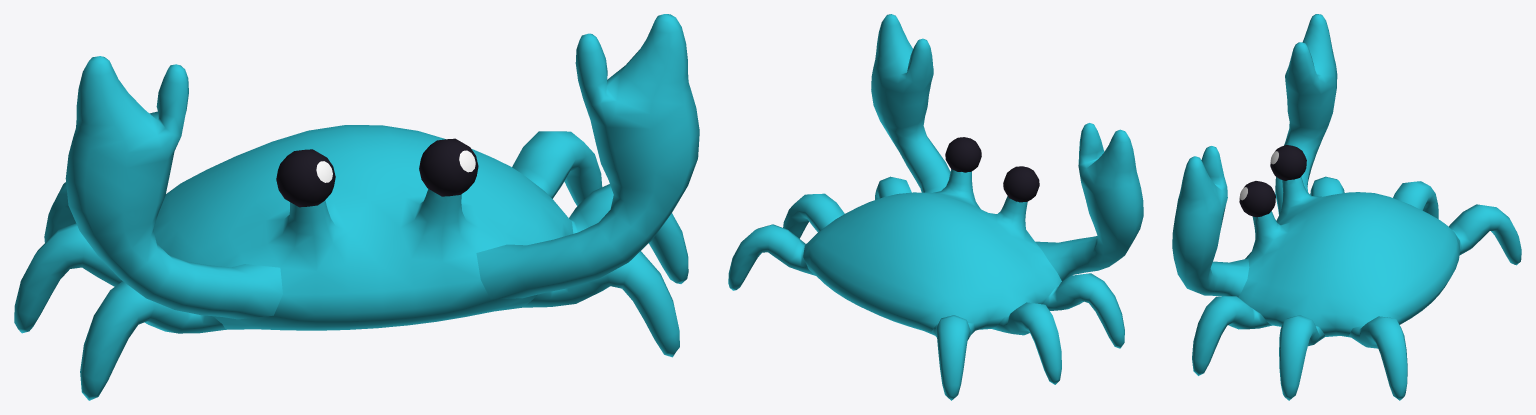
File: Holo_Fish.glb
3 views of the same model, side by side, from view 1: azimuth 30°, elevation 25°; view 2: azimuth 150°, elevation 25°; view 3: azimuth 270°, elevation 25° (orthographic). The views are drawn at different scales.
Parts seen in each view (by area): view 1: Holo_Fish; view 2: Holo_Fish; view 3: Holo_Fish.
Part boxes in pixels (x1,y1,x2,y2): Holo_Fish: (14,14,699,400); Holo_Fish: (728,14,1143,400); Holo_Fish: (1172,14,1521,400).
Bounding box in the file's own units: 1.04 × 0.583 × 0.8521.
